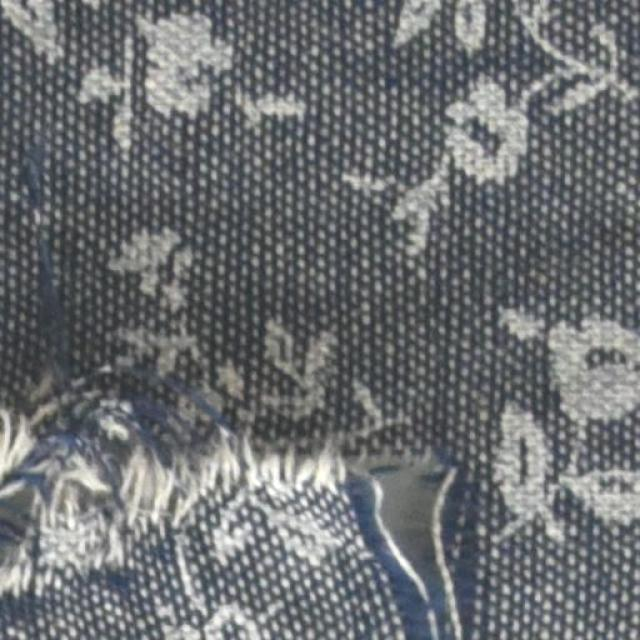Hole: (387, 467, 435, 589)
Snag: (0, 373, 364, 605)
